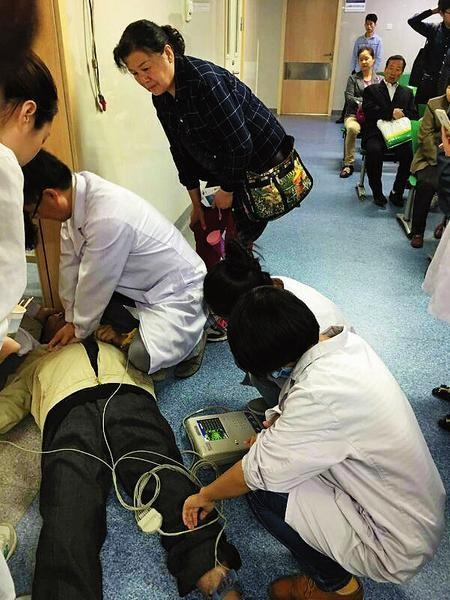falling: (0, 288, 220, 600)
